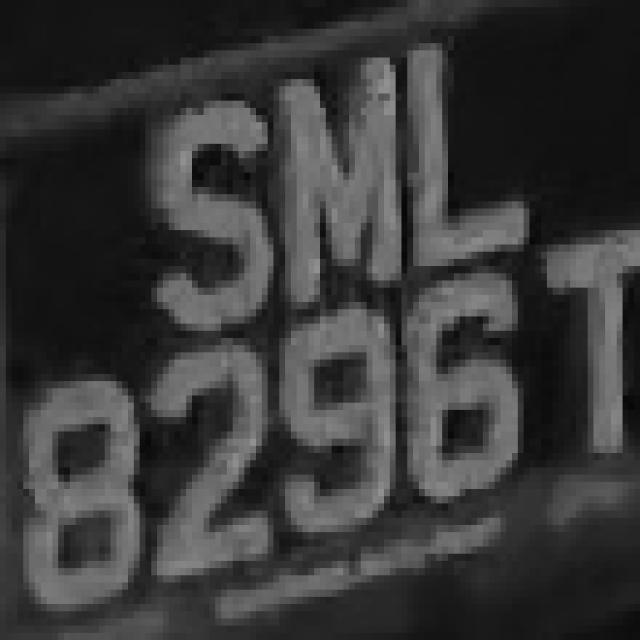2: (146, 309, 285, 597)
6: (384, 238, 529, 540)
8: (12, 367, 157, 633)
9: (280, 280, 408, 554)
L: (407, 22, 553, 266)
M: (250, 58, 402, 302)
S: (140, 86, 279, 338)
T: (5, 2, 6, 6)
